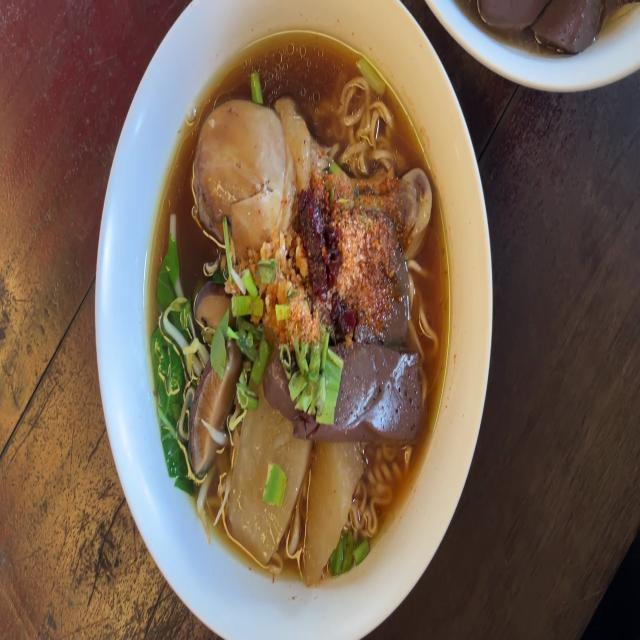noodle: (143, 29, 457, 586)
